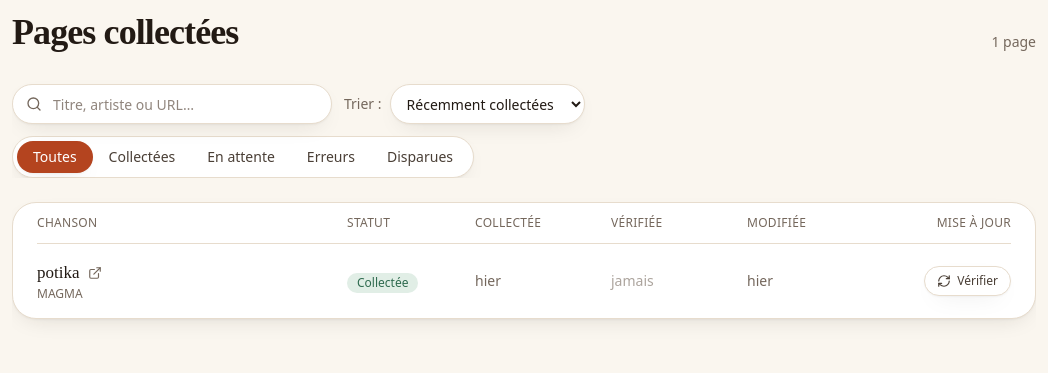
Test: pages collectées › vérifie une page déjà collectée et affiche la mise à jour détectée
The image size is (1048, 373).
Click the button "Vérifier" at (968, 281), box top-left (924, 266), bottom-right (1011, 296)
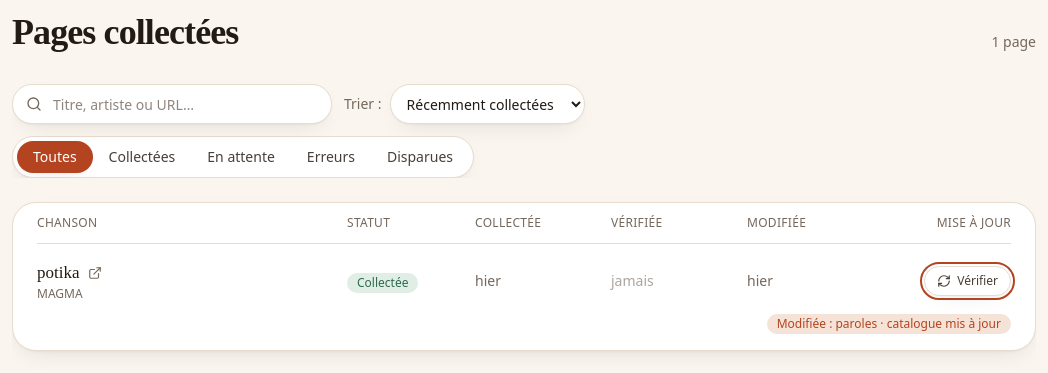
Now the text "Modifiée : paroles · catalogue mis à jour" is shown, box top-left (767, 314), bottom-right (1011, 334)
